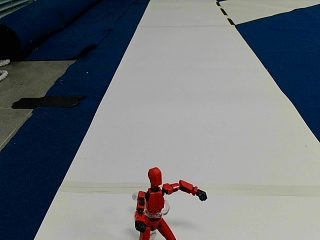pedestrian: (130, 167, 205, 236)
